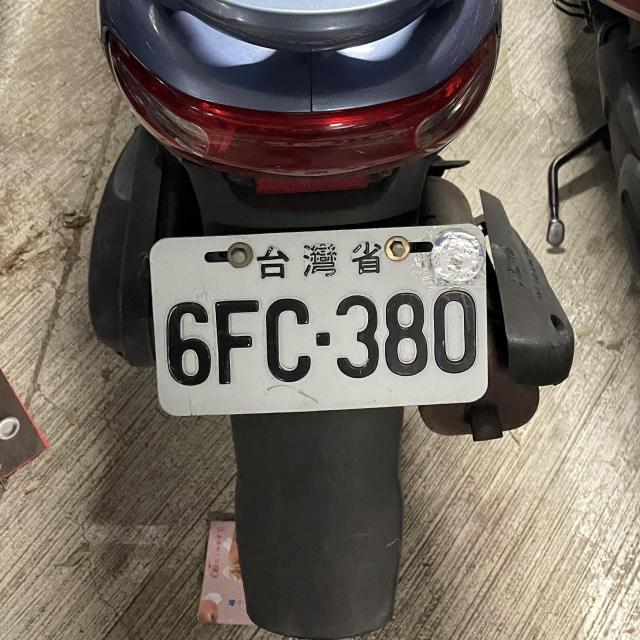W: (146, 221, 489, 414)
